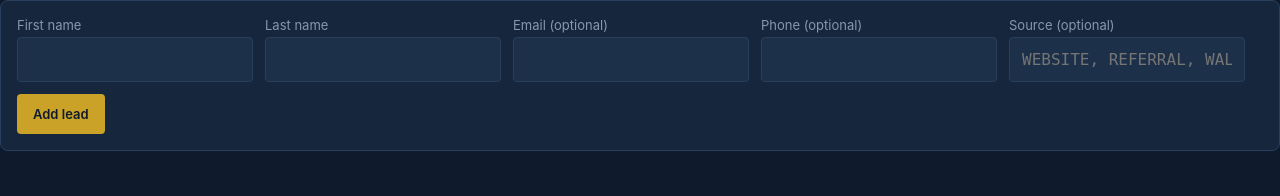
Scenario: CreateLeadForm › shows the action-returned error message and does not reset the fields on failure
Type "Ada" into the field labelled "First name". click: (135, 60)
box: x1=17 y1=37 x2=253 y2=82
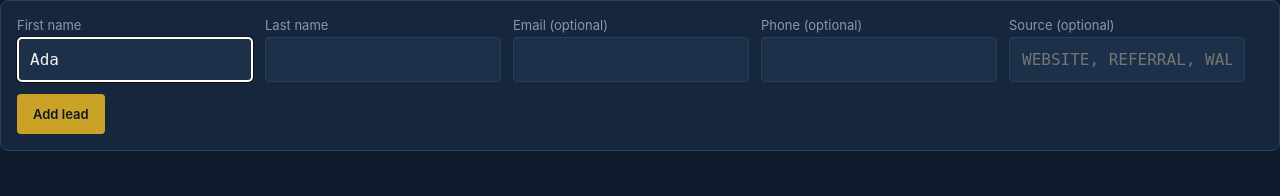
Type "Okafor" into the field labelled "Last name". click: (383, 60)
box: x1=265 y1=37 x2=501 y2=82
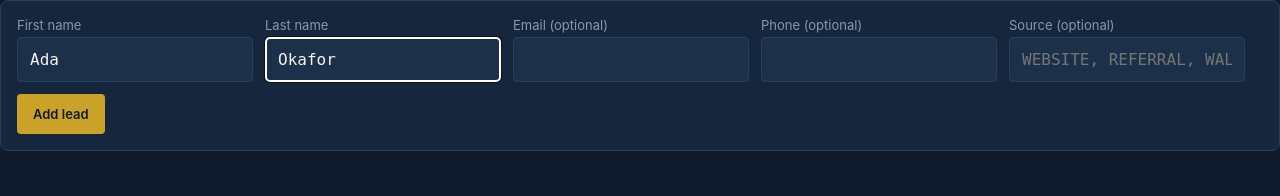
Click the button "Add lead". click: (61, 114)
box: x1=17 y1=94 x2=105 y2=134
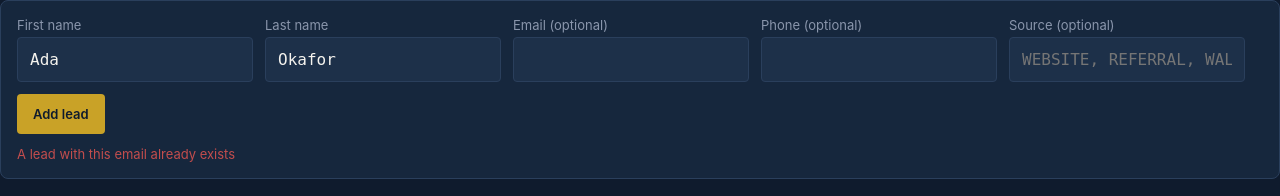
Check: the text "A lead with this email already exists" is shown, box x1=17 y1=146 x2=235 y2=162
